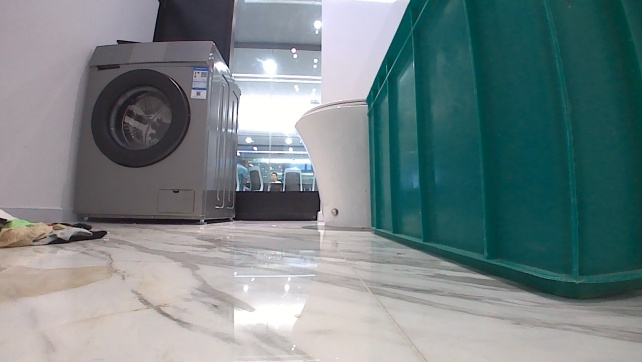toilet: (293, 95, 369, 231)
washing_machine: (70, 36, 256, 225)
